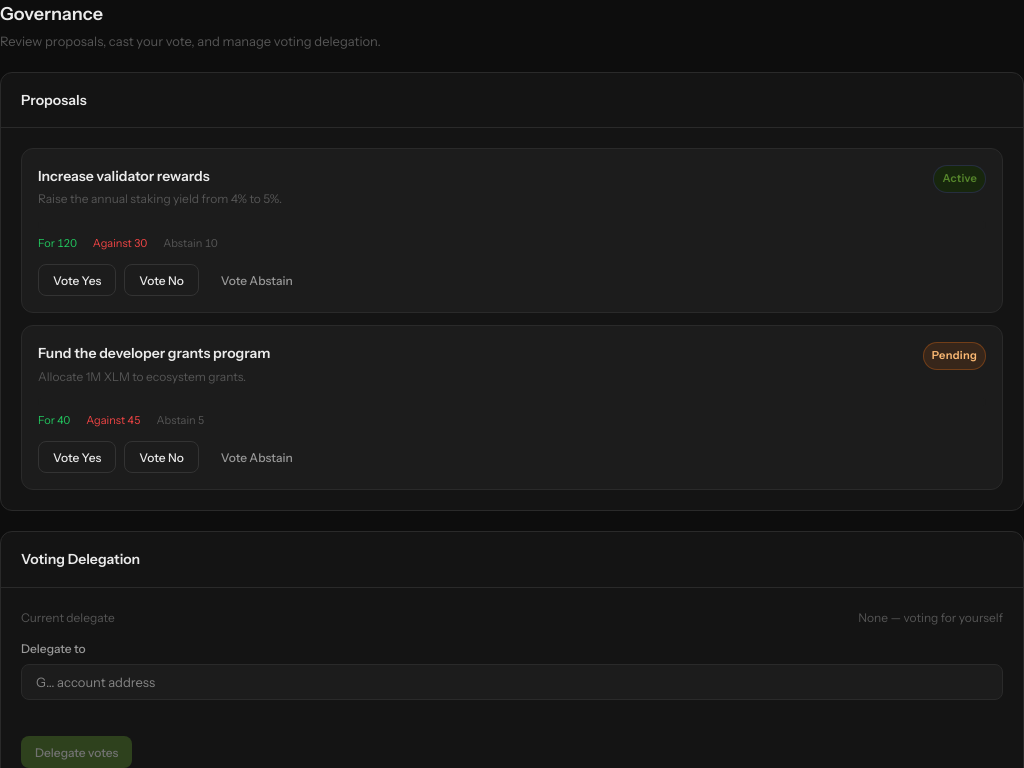
Scenario: GovernanceDashboard › vote failures › shows an error banner when the contract invocation throws
Check: the heading "Increase validator rewards" is shown, box x1=38 y1=167 x2=210 y2=185
Click the button "Vote Yes" below "120": [77, 280] box x1=38 y1=264 x2=116 y2=296
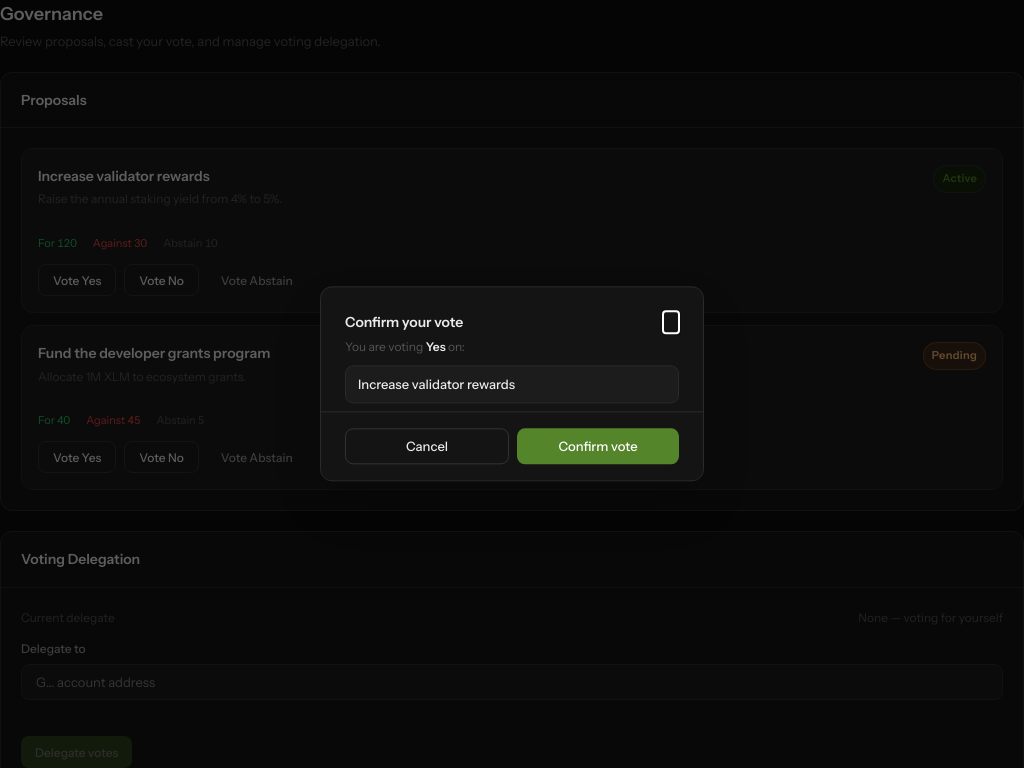
Click the button "Confirm vote": [598, 447] box x1=517 y1=429 x2=679 y2=465
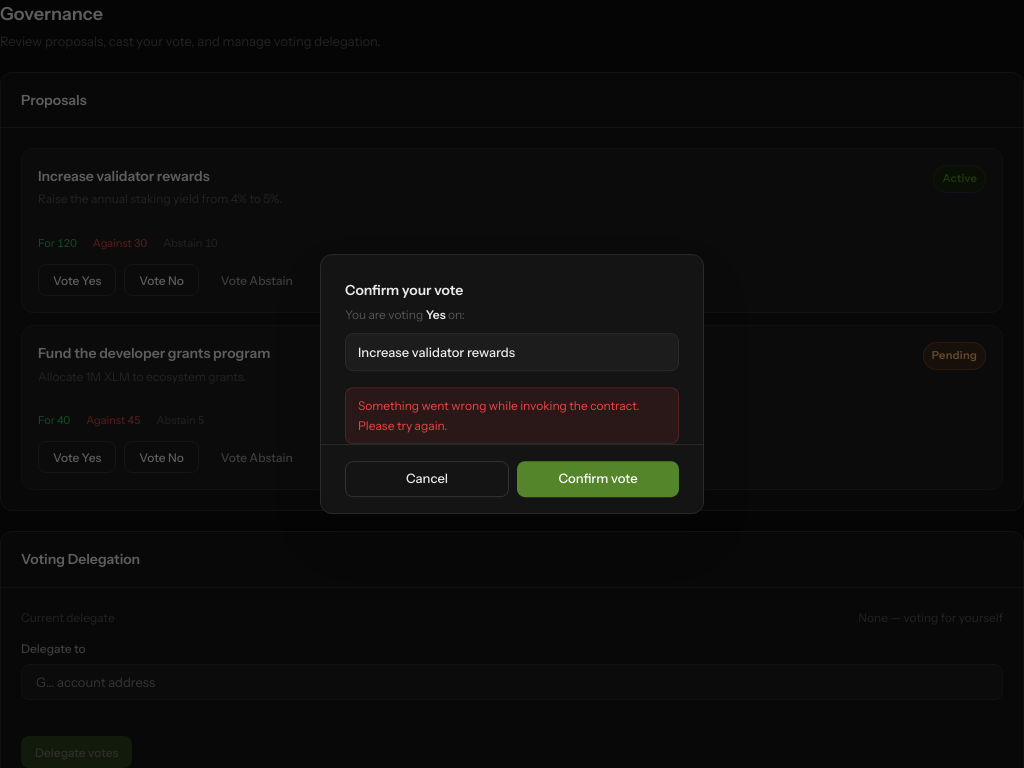
Check: the dialog is shown, box x1=320 y1=254 x2=704 y2=514
Check: the button "Confirm vote" is enabled, box x1=517 y1=461 x2=679 y2=497
Check: the message "Something went wrong while invoking the contract. Please try again." is shown, box x1=345 y1=388 x2=679 y2=444
